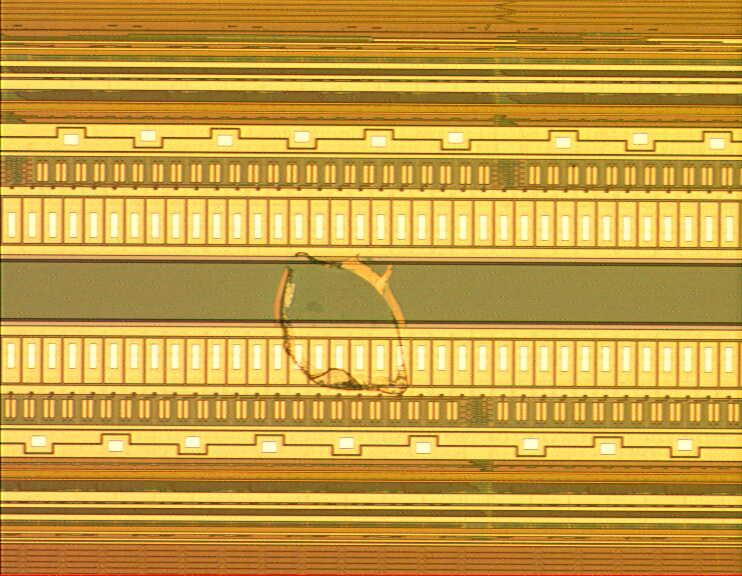BLOCK ETCH: (270, 243, 422, 404)
